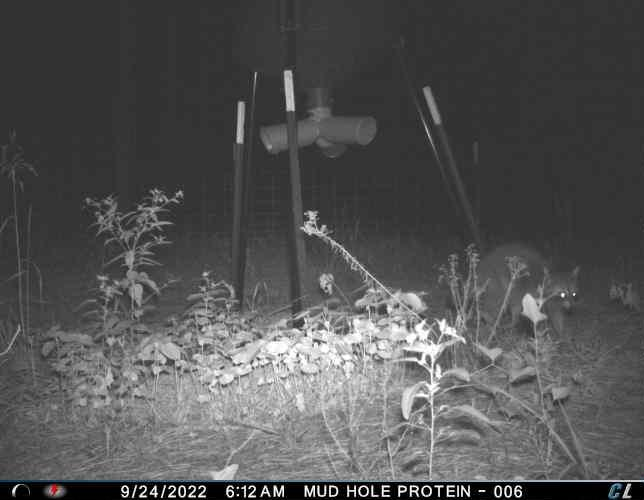Raccoon: (456, 240, 584, 356)
